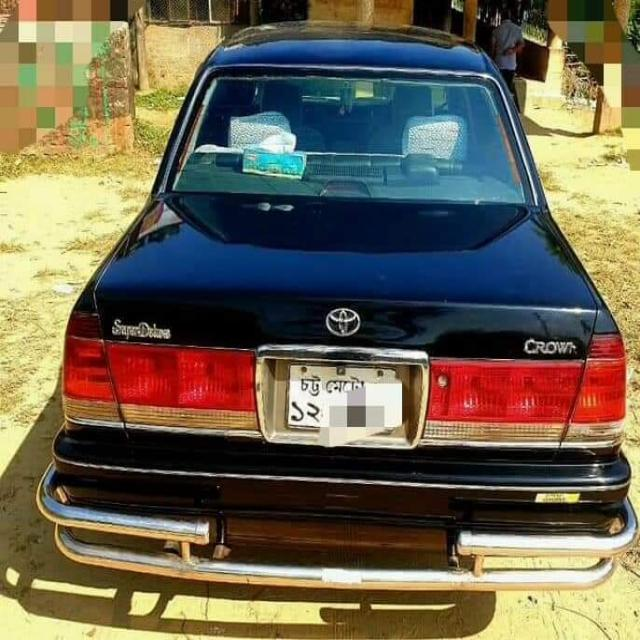black: (49, 29, 640, 588)
